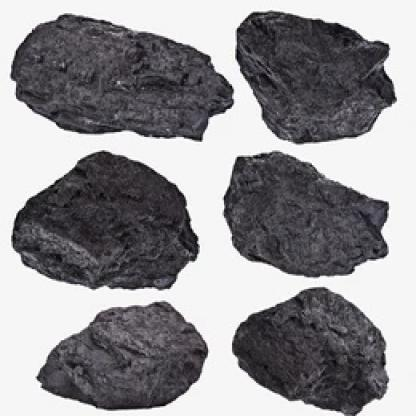Sedimentary_coal: (0, 2, 229, 142), (5, 149, 200, 284), (224, 5, 398, 149), (208, 158, 395, 280), (219, 288, 394, 414), (19, 301, 205, 406)
